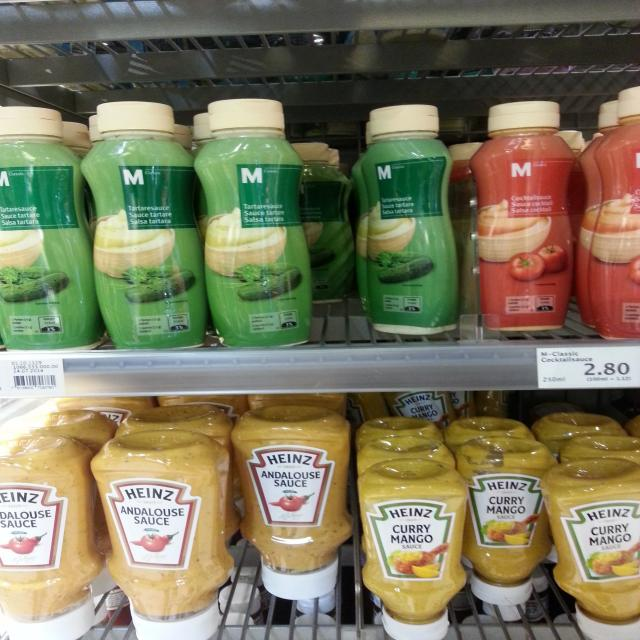Sauce: (80, 102, 204, 350), (92, 428, 235, 640), (194, 99, 310, 349), (469, 101, 576, 330), (231, 403, 354, 600), (0, 107, 98, 352), (363, 103, 459, 334), (0, 434, 106, 640), (358, 459, 467, 640), (540, 457, 640, 639), (456, 436, 560, 605), (587, 87, 640, 338)
